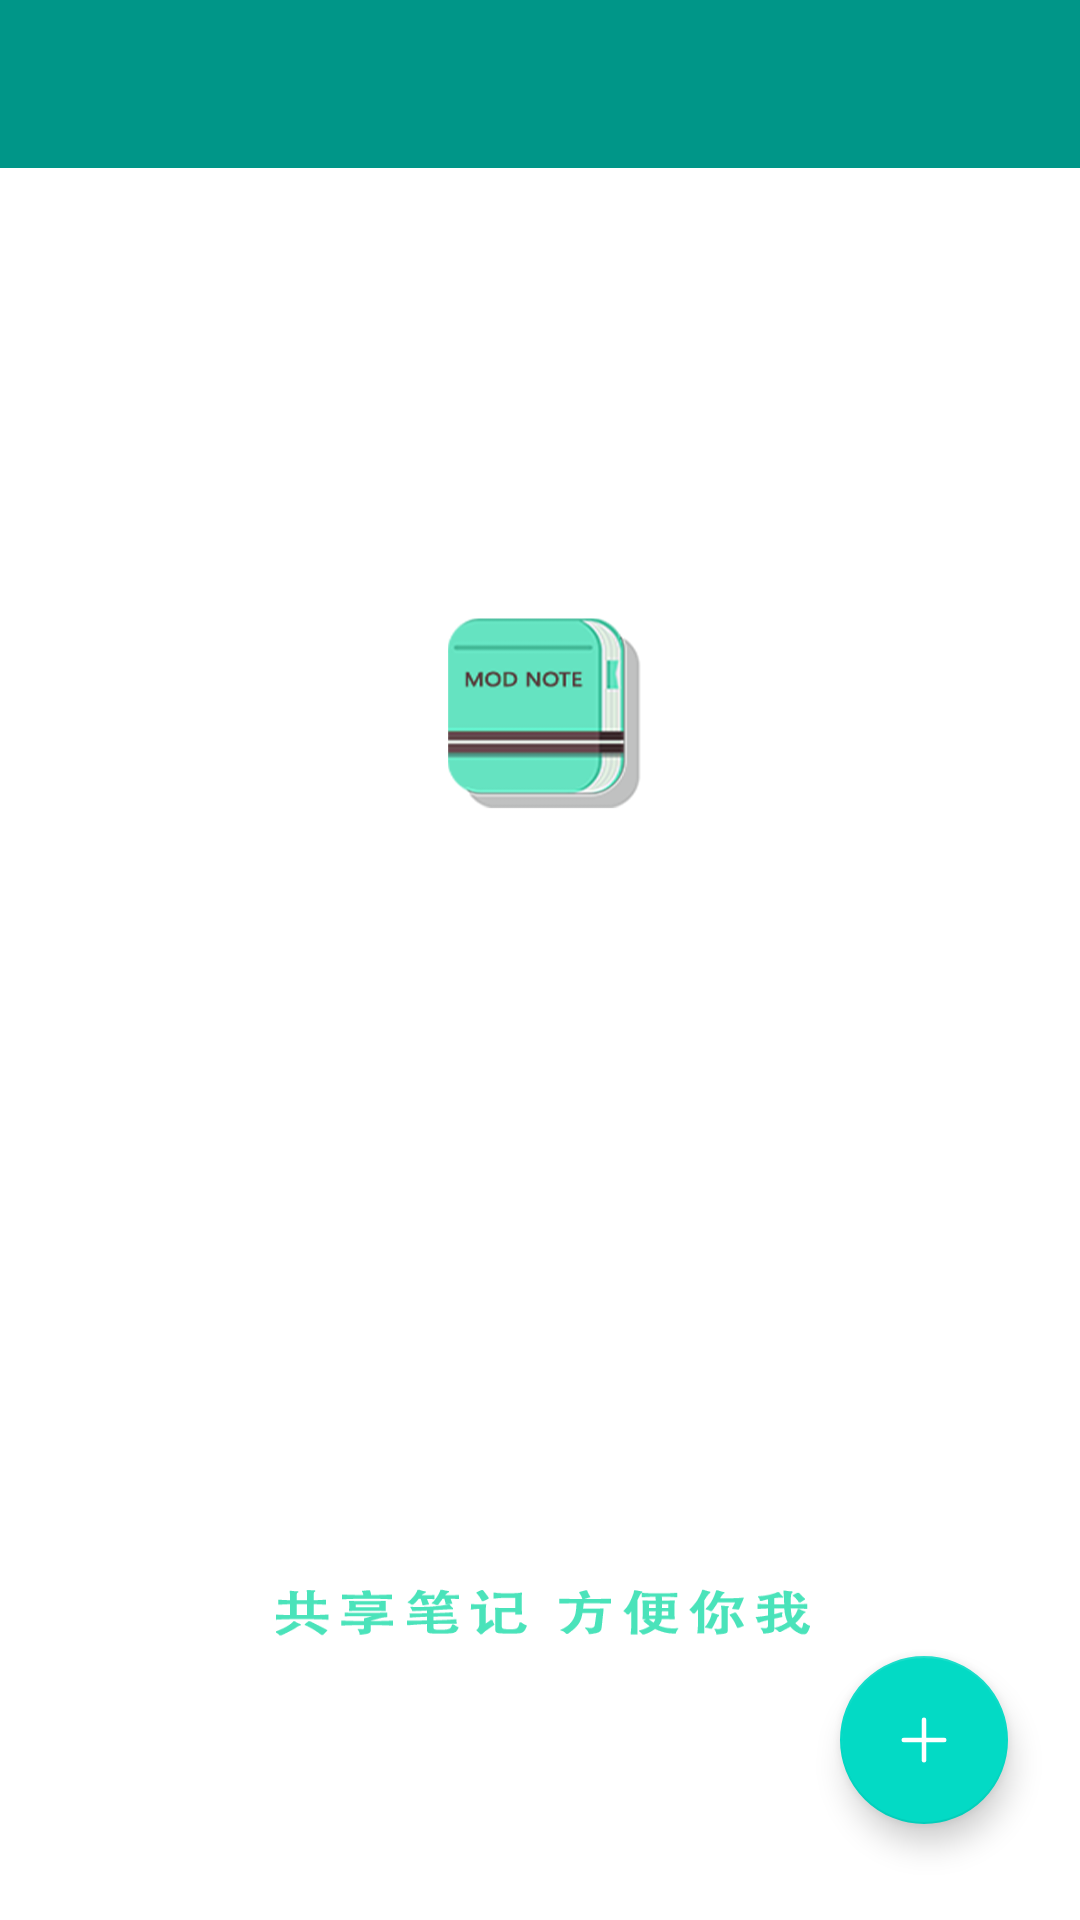

Icons on this 1080×1920 Android screen, each with the point to tap as point (x, y):
add: point (924, 1740)
